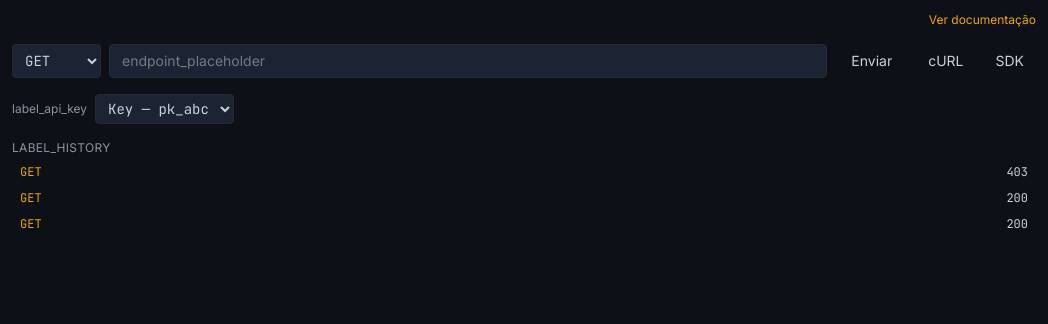
Test case: PlaygroundPanel — envio e resposta › trata erro de rede
Expected: the dropdown with test id "apikey-select" is shown, [95,94,234,124]
Step 1. Click the button with test id "btn-send" → (872, 61), box [835,45,908,77]
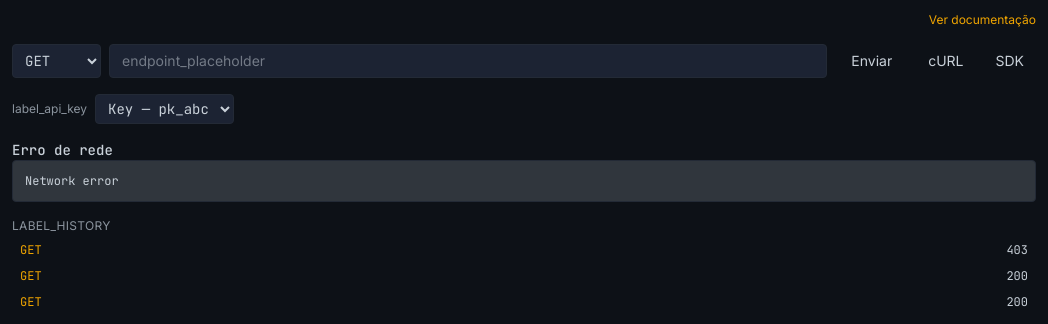
Expected: the element with test id "response-panel" shows "Network error", [25,173,119,189]
